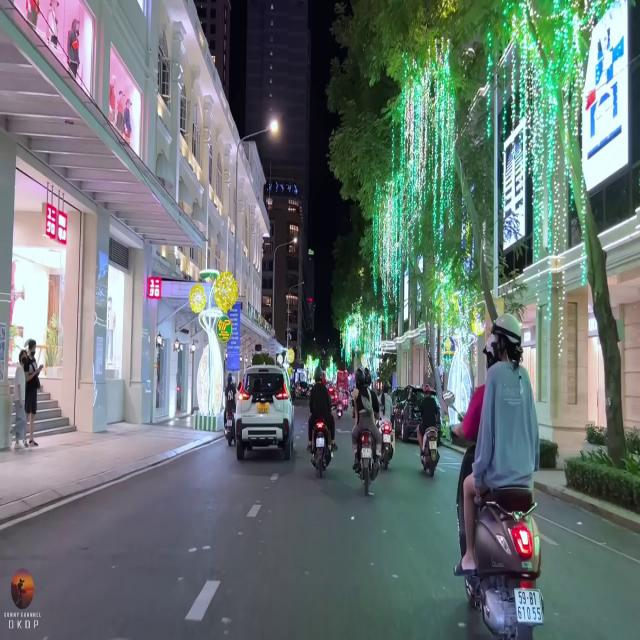bien_trang: (514, 586, 544, 626)
